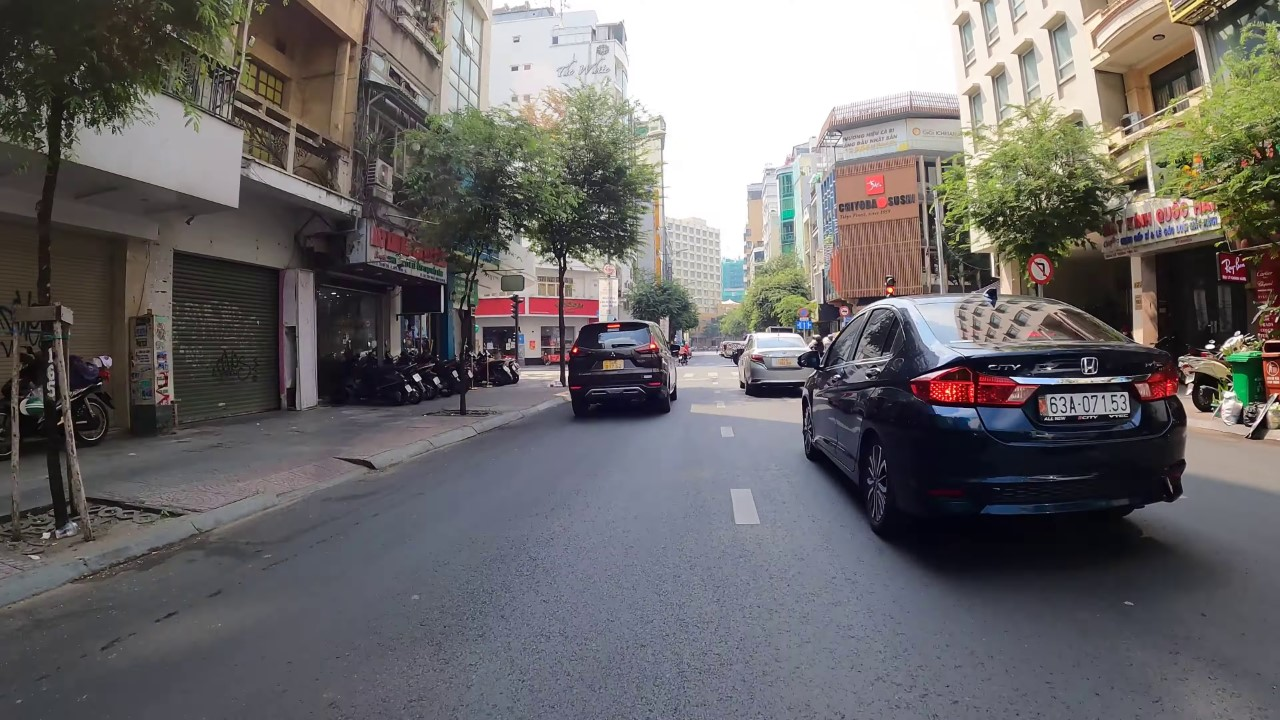cam_re_trai: (1024, 253, 1055, 287)
